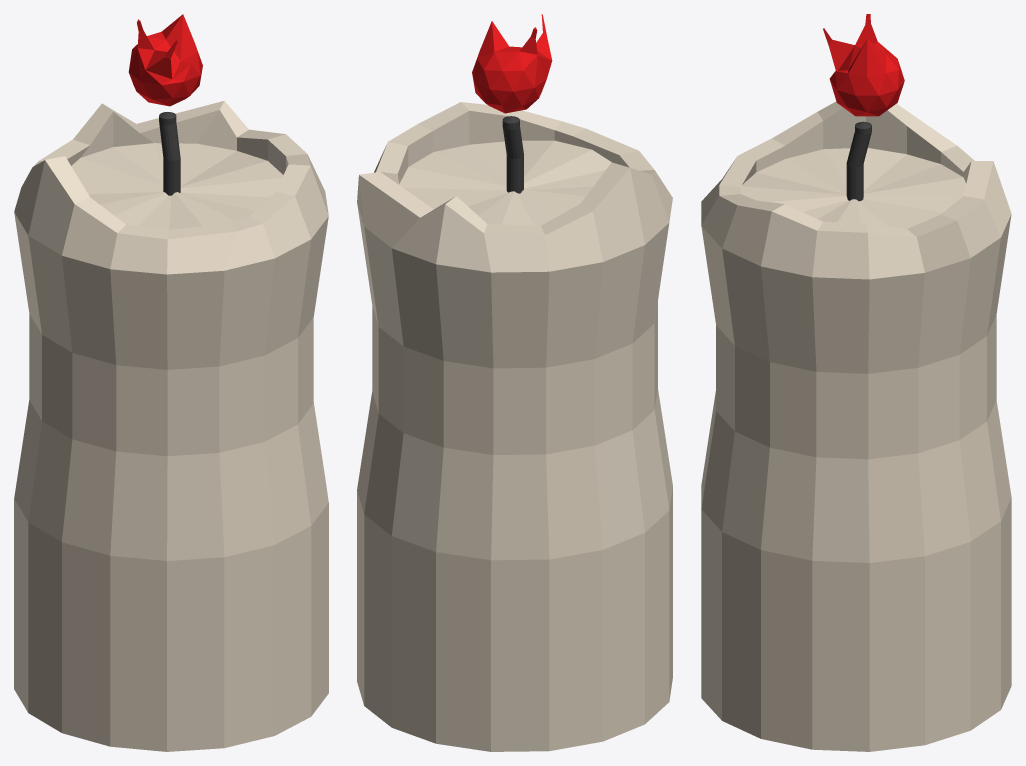
The model's file is Candle_01.fbx.
3 renders of one model, left to right at view 1: azimuth 30°, elevation 25°; view 2: azimuth 150°, elevation 25°; view 3: azimuth 270°, elevation 25°, orthographic.
Visible parts, largest first — view 1: Flame, Candle; view 2: Flame, Candle; view 3: Flame, Candle.
Boxes of the visible parts, box(x1,y1,x2,y2) form: Flame: box(14, 100, 328, 751); Candle: box(128, 14, 202, 106); Flame: box(357, 102, 672, 751); Candle: box(472, 14, 552, 113); Flame: box(701, 101, 1011, 751); Candle: box(823, 14, 904, 116).
Size of the model in its own units: 199 by 465 by 198.
